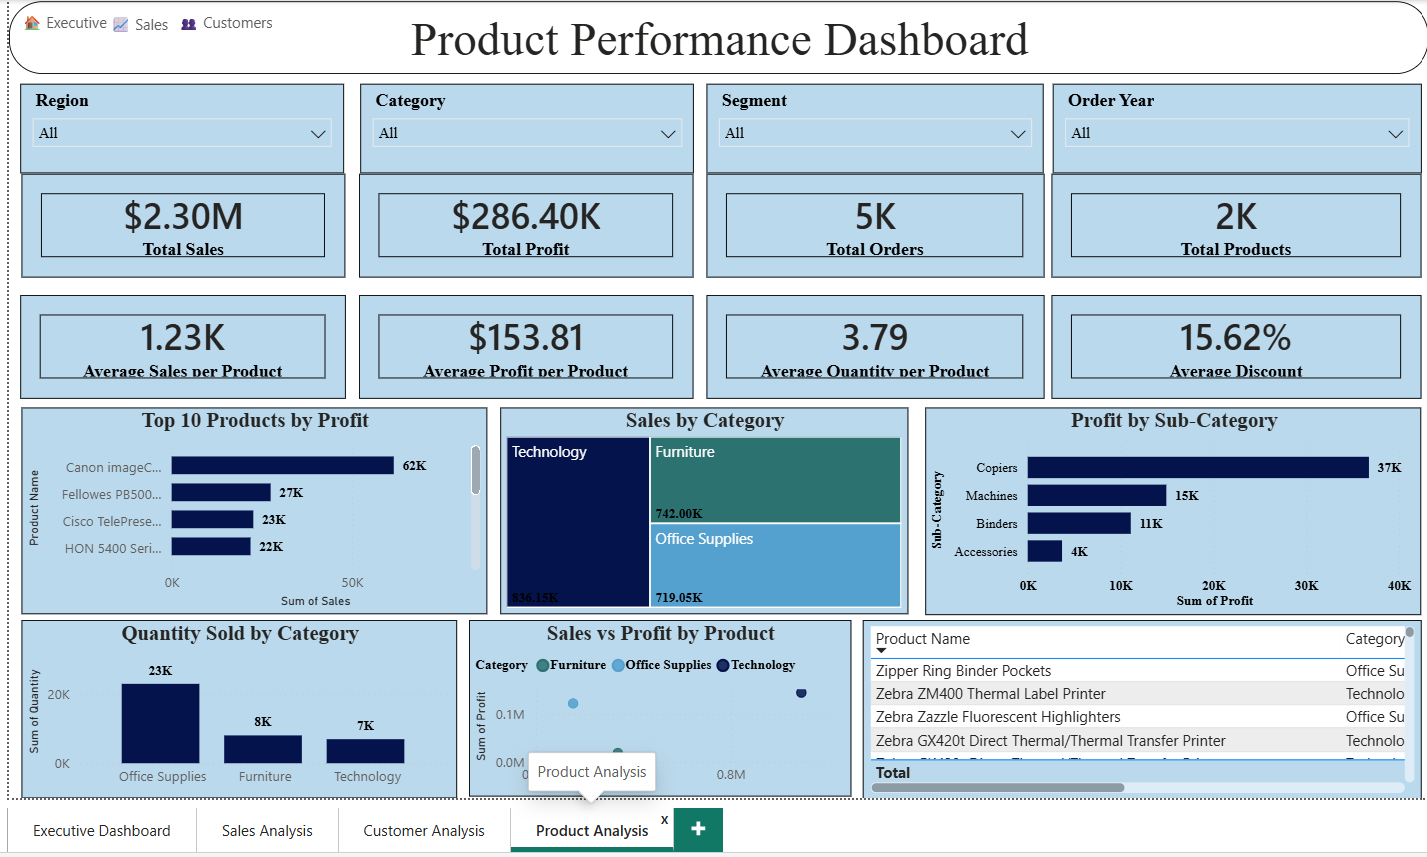

The page's visual inventory and layout, read from the dashboard file:
{"tool":"powerbi","page":{"name":"Product Analysis","canvas":[1280,720],"ordinal":3},"visuals":[{"type":"textbox","title":"Product Performance Dashboard","box":[0,1.1,1280.4,65.4],"z":0},{"type":"slicer","fields":{"Values":["processed_superstore.Region"]},"box":[10.1,75.5,291.9,81.2],"z":1000},{"type":"slicer","fields":{"Values":["processed_superstore.Category"]},"box":[316.7,75.5,300.9,81.2],"z":2000},{"type":"slicer","fields":{"Values":["processed_superstore.Segment"]},"box":[628.9,75.5,304.3,81.2],"z":3000},{"type":"slicer","fields":{"Values":["processed_superstore.Order Year"]},"box":[941.1,75.5,332.5,81.2],"z":4000},{"type":"cardVisual","fields":{"Data":["processed_superstore.Total Profit"]},"box":[315.6,156.4,301.9,93.3],"z":5000},{"type":"cardVisual","fields":{"Data":["processed_superstore.Total Sales"]},"box":[11,156.4,292.3,93.3],"z":6000},{"type":"cardVisual","fields":{"Data":["processed_superstore.Total Orders"]},"box":[628.5,156.4,304.6,93.3],"z":7000},{"type":"cardVisual","fields":{"Data":["processed_superstore.Total Products"]},"box":[940,156.7,333.6,93.6],"z":8000},{"type":"cardVisual","fields":{"Data":["processed_superstore.Average Sales per Product"]},"box":[9.6,266.2,293.7,93.3],"z":9000},{"type":"cardVisual","fields":{"Data":["processed_superstore.Average Profit per Product"]},"box":[315.6,266.2,301.9,93.3],"z":10000},{"type":"cardVisual","fields":{"Data":["processed_superstore.Average Quantity per Product"]},"box":[628.5,266.2,304.6,93.3],"z":11000},{"type":"cardVisual","fields":{"Data":["processed_superstore.Average Discount"]},"box":[940,266,333.6,93.6],"z":12000},{"type":"clusteredBarChart","title":"Top 10 Products by Profit","fields":{"Category":["processed_superstore.Product Name"],"Y":["Sum(processed_superstore.Sales)"]},"box":[11,367.8,419.9,186.6],"z":13000},{"type":"treemap","title":"Sales by Category","fields":{"Values":["Sum(processed_superstore.Sales)"],"Group":["processed_superstore.Category"]},"box":[443.2,367.8,367.8,186.6],"z":14000},{"type":"clusteredBarChart","title":"Profit by Sub-Category","fields":{"Y":["Sum(processed_superstore.Profit)"],"Category":["processed_superstore.Sub-Category"]},"box":[826.2,367.4,447.5,187.1],"z":15000},{"type":"clusteredColumnChart","title":"Quantity Sold by Category","fields":{"Category":["processed_superstore.Category"],"Y":["Sum(processed_superstore.Quantity)"]},"box":[11,558.5,392.5,160.5],"z":16000},{"type":"scatterChart","title":"Sales vs Profit by Product","fields":{"X":["Sum(processed_superstore.Sales)"],"Y":["Sum(processed_superstore.Profit)"],"Series":["processed_superstore.Category"]},"box":[414.4,558.5,344.4,159.2],"z":17000},{"type":"tableEx","fields":{"Values":["processed_superstore.Product Name","processed_superstore.Category","processed_superstore.Sub-Category","Sum(processed_superstore.Sales)","Sum(processed_superstore.Profit)","Sum(processed_superstore.Quantity)","Sum(processed_superstore.Discount)"]},"box":[769.8,558.5,503.6,161.9],"z":18000},{"type":"actionButton","box":[0,0,100,40],"z":19000},{"type":"actionButton","box":[67.6,1.5,100,39.7],"z":20000},{"type":"actionButton","box":[145.6,0,100,39.7],"z":21000}]}

Visuals, with their boxes in screenshot pixels (x1, y1, x2, y2):
"Product Performance Dashboard" textbox: region(15, 1, 1423, 73)
slicer - processed_superstore.Region: region(26, 83, 347, 172)
slicer - processed_superstore.Category: region(363, 83, 694, 172)
slicer - processed_superstore.Segment: region(706, 83, 1041, 172)
slicer - processed_superstore.Order Year: region(1050, 83, 1415, 172)
cardVisual - processed_superstore.Total Profit: region(362, 172, 694, 275)
cardVisual - processed_superstore.Total Sales: region(27, 172, 348, 275)
cardVisual - processed_superstore.Total Orders: region(706, 172, 1041, 275)
cardVisual - processed_superstore.Total Products: region(1048, 172, 1415, 275)
cardVisual - processed_superstore.Average Sales per Product: region(25, 293, 348, 395)
cardVisual - processed_superstore.Average Profit per Product: region(362, 293, 694, 395)
cardVisual - processed_superstore.Average Quantity per Product: region(706, 293, 1041, 395)
cardVisual - processed_superstore.Average Discount: region(1048, 292, 1415, 395)
"Top 10 Products by Profit" clusteredBarChart: region(27, 404, 489, 610)
"Sales by Category" treemap: region(502, 404, 906, 610)
"Profit by Sub-Category" clusteredBarChart: region(923, 404, 1415, 610)
"Quantity Sold by Category" clusteredColumnChart: region(27, 614, 458, 790)
"Sales vs Profit by Product" scatterChart: region(470, 614, 849, 789)
tableEx - processed_superstore.Product Name x processed_superstore.Category: region(861, 614, 1415, 792)
actionButton: region(15, 0, 125, 44)
actionButton: region(89, 2, 199, 45)
actionButton: region(175, 0, 285, 44)
